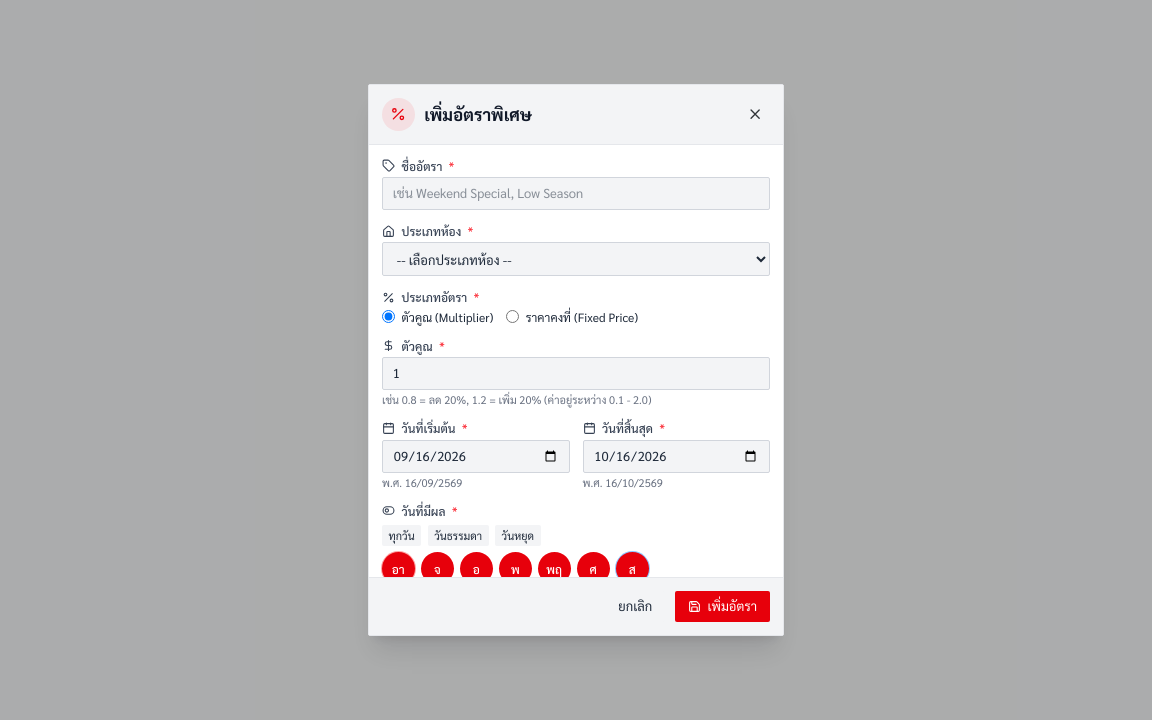
Test: RateForm Component › Rate Type Toggle › hides multiplier hint when in fixed mode
Click the radio button labelled "ราคาคงที่ (Fixed Price)".
click(513, 317)  # box left=506, top=310, right=519, bottom=323
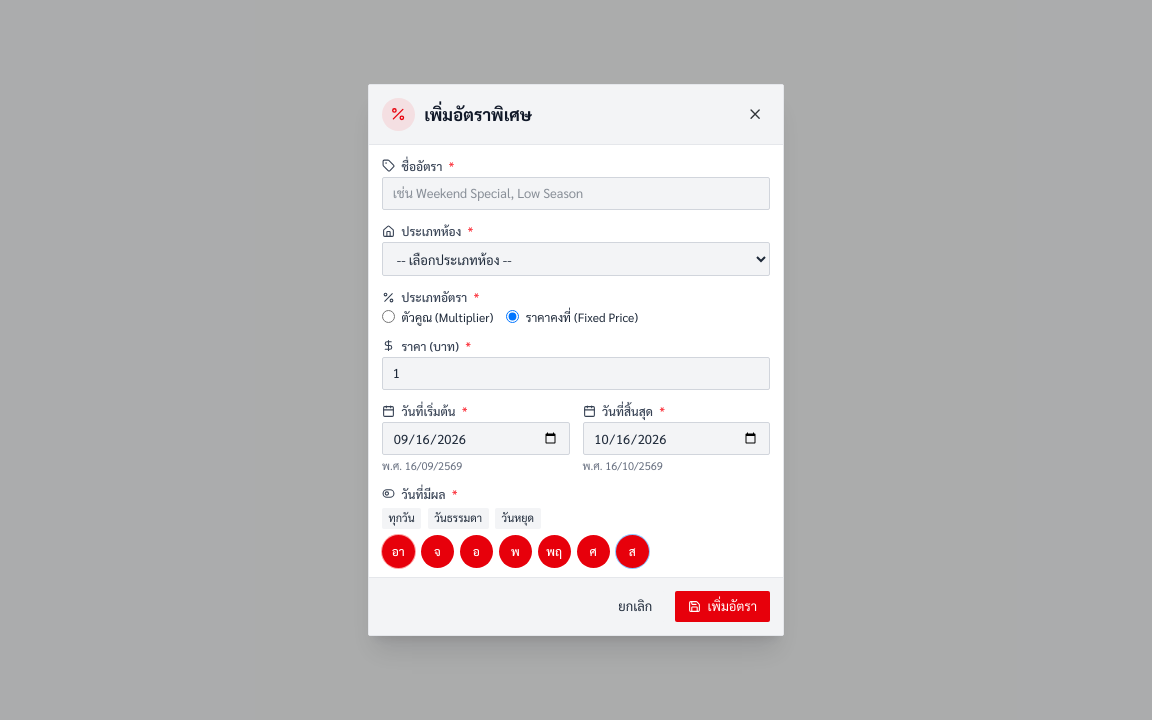
Now the text "เช่น 0.8 = ลด 20%" is gone
